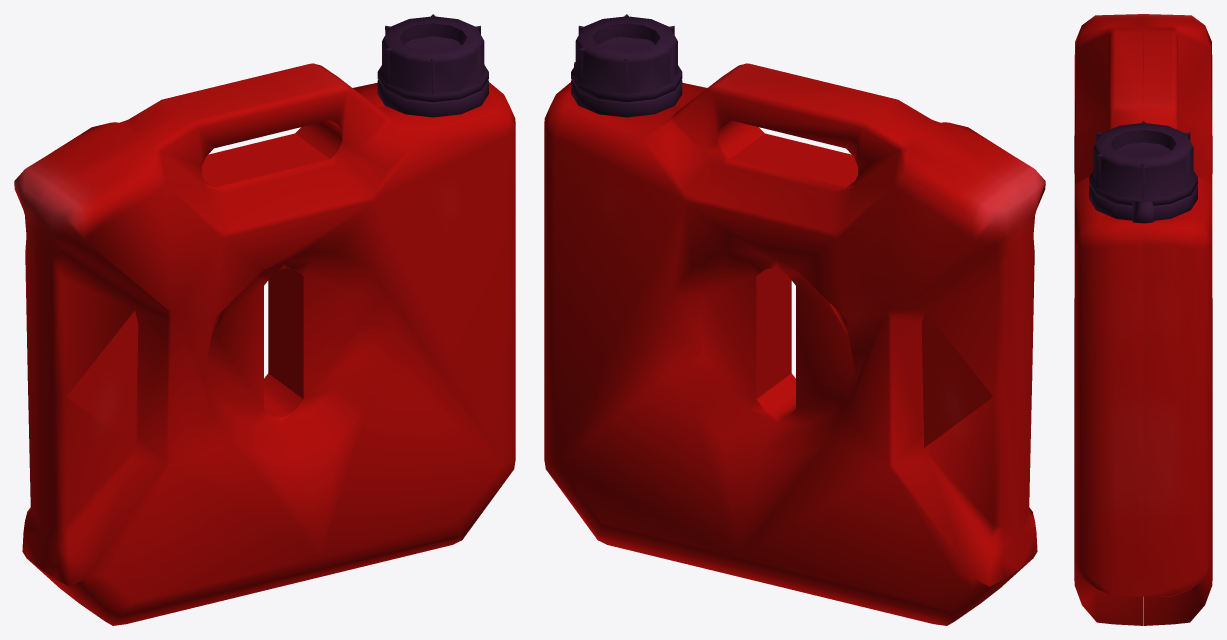
Rendered from fuel can.glb.
3 renders of one model, left to right at view 1: azimuth 30°, elevation 25°; view 2: azimuth 150°, elevation 25°; view 3: azimuth 270°, elevation 25°, orthographic. The views are drawn at different scales.
Visible parts, largest first — view 1: gas can, gas cap; view 2: gas can, gas cap; view 3: gas can, gas cap.
Part boxes in pixels (x1,y1,x2,y2): gas can: [14, 63, 515, 625]; gas cap: [377, 14, 488, 117]; gas can: [544, 63, 1045, 625]; gas cap: [571, 14, 682, 117]; gas can: [1074, 14, 1212, 625]; gas cap: [1089, 121, 1197, 223].
Size of the model in its own units: 0.9731 by 0.9949 by 0.2604.
1 material, 1 textured.
